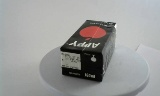appy: (54, 19, 109, 82)
